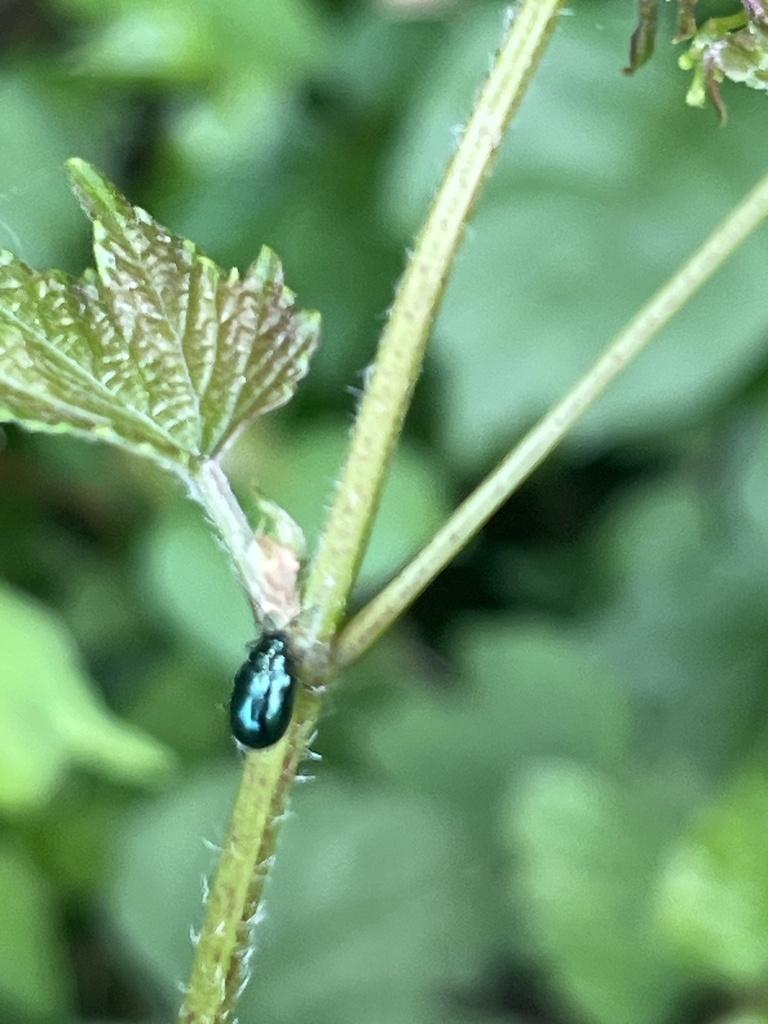flea_beetle: (204, 608, 329, 771)
